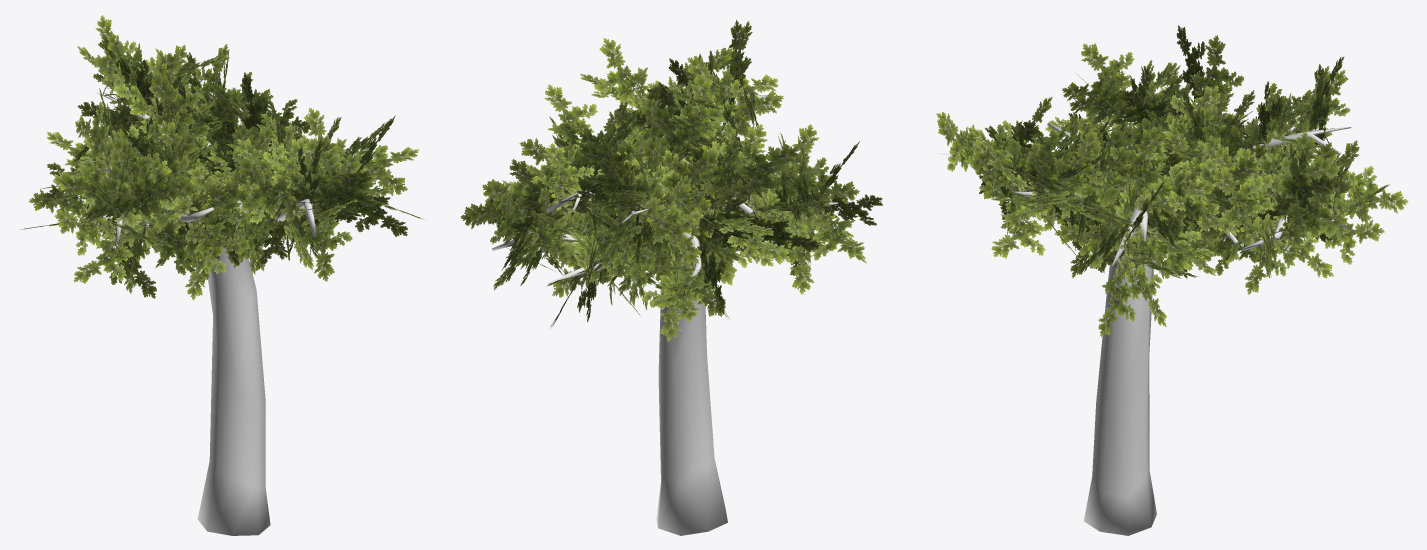
Rendered from Tree2.fbx.
3 views of the same model, side by side, from view 1: azimuth 30°, elevation 25°; view 2: azimuth 150°, elevation 25°; view 3: azimuth 270°, elevation 25° (orthographic). The views are drawn at different scales.
Parts seen in each view (by area): view 1: Branch_2, Tree_2; view 2: Branch_2, Tree_2; view 3: Branch_2, Tree_2.
Part boxes in pixels (x1=…): Branch_2: x1=19, y1=15, x2=424, y2=300; Tree_2: x1=97, y1=63, x2=375, y2=535; Branch_2: x1=460, y1=20, x2=882, y2=341; Tree_2: x1=492, y1=85, x2=838, y2=535; Branch_2: x1=936, y1=25, x2=1408, y2=337; Tree_2: x1=948, y1=109, x2=1351, y2=535.
Size of the model in its own units: 588 by 674 by 646.
Materials: 2 (1 with a texture image).
